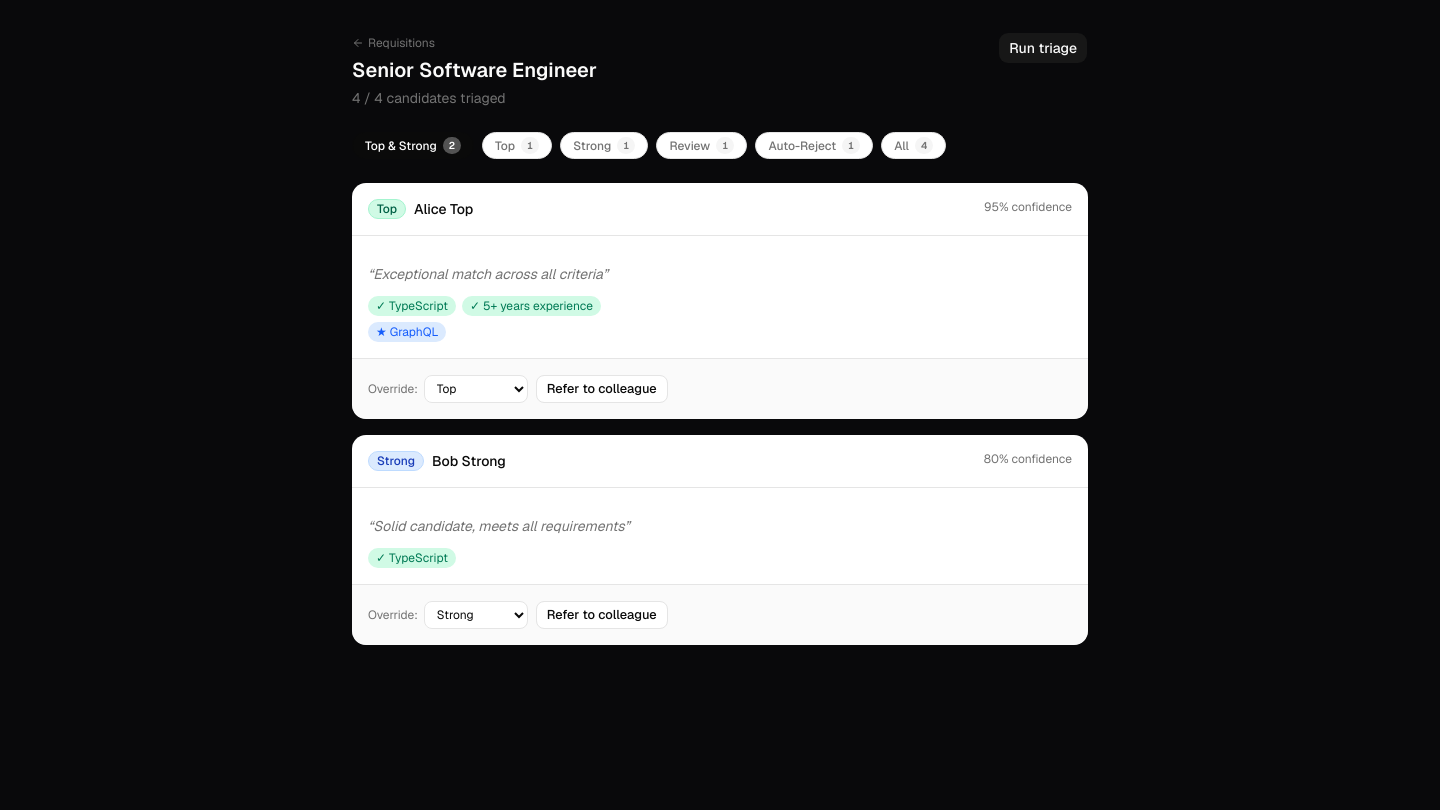
Test: interactions › Refer to colleague button is present and clickable
// Clicking opens the dialog without errors
Click the button "Refer to colleague" below "GraphQL": {"x": 602, "y": 389} [536, 375, 668, 403]
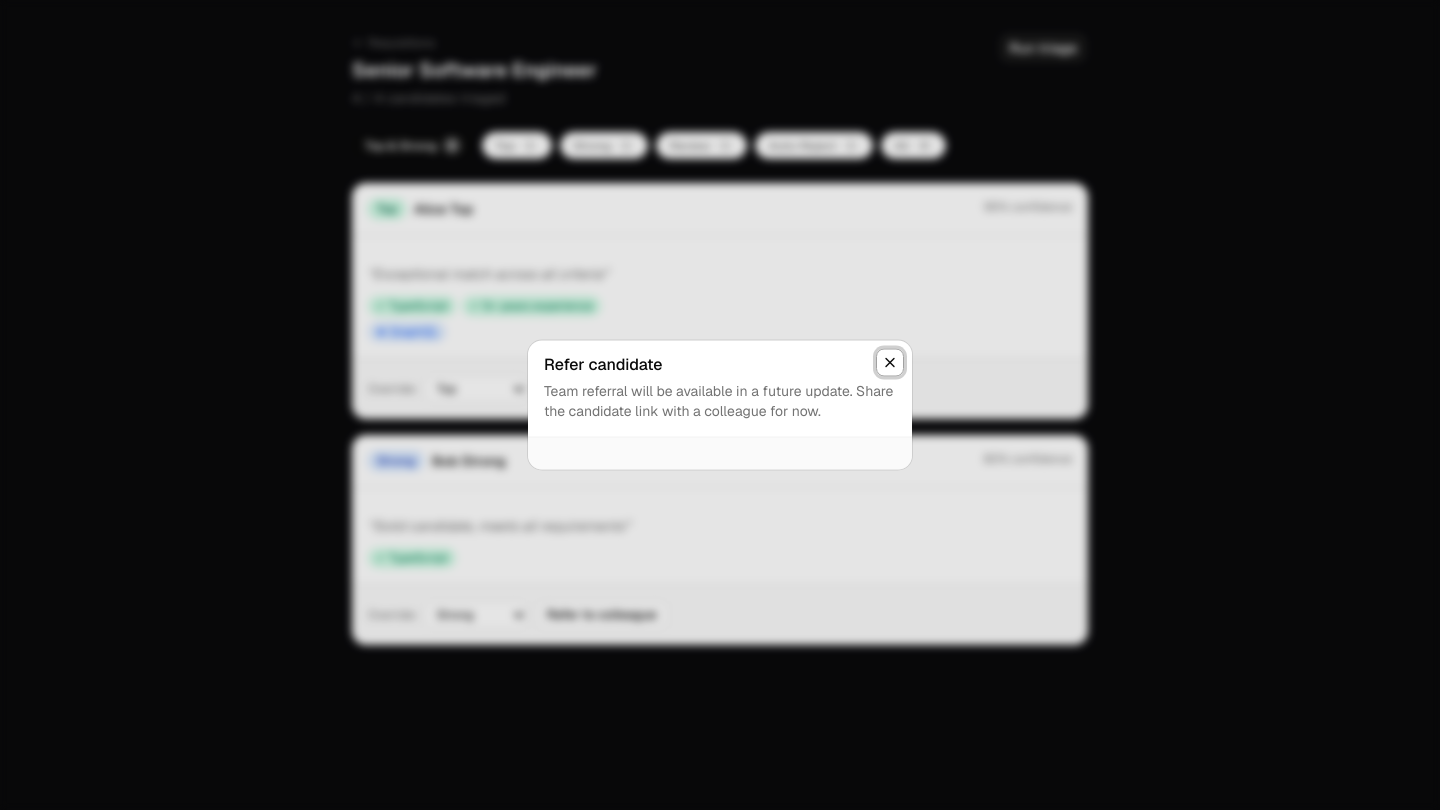
Expected: the heading "Refer candidate" is shown, [544, 354, 663, 374]
